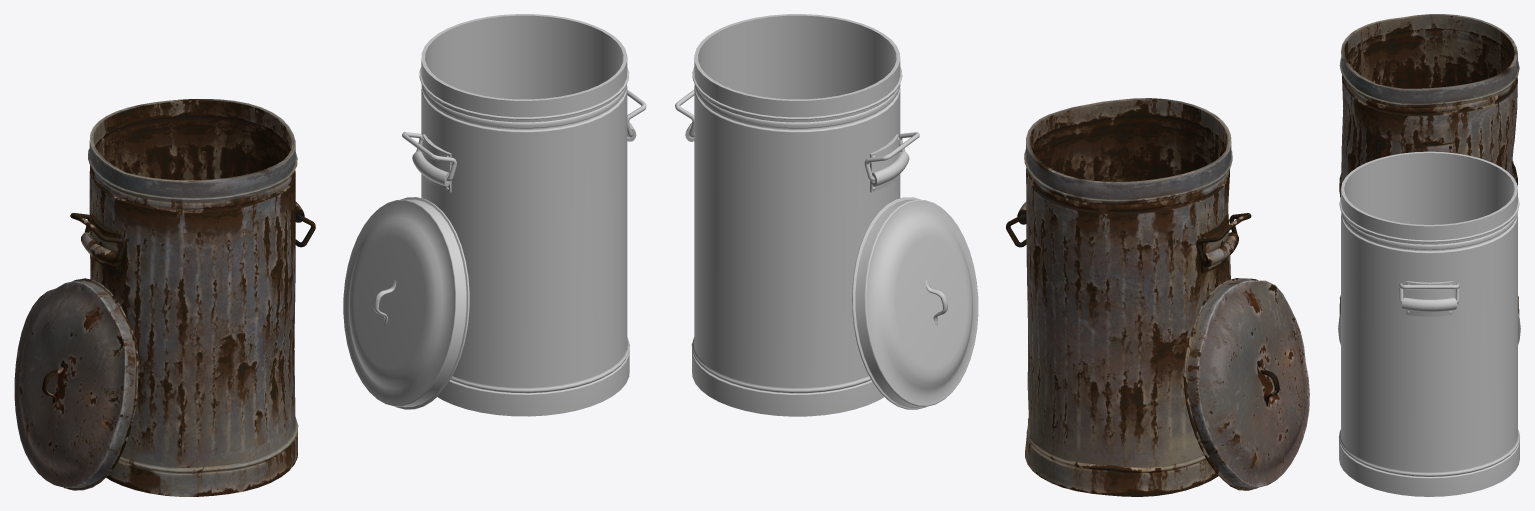
Rendered from metal_trash_can_1k.fbx.
3 views of the same model, side by side, from view 1: azimuth 30°, elevation 25°; view 2: azimuth 150°, elevation 25°; view 3: azimuth 270°, elevation 25° (orthographic). The views are drawn at different scales.
Parts seen in each view (by area): view 1: metal_trash_can, metal_trash_can_rust, metal_trash_can_lid, metal_trash_can_rust_lid; view 2: metal_trash_can, metal_trash_can_rust, metal_trash_can_lid, metal_trash_can_rust_lid; view 3: metal_trash_can, metal_trash_can_rust, metal_trash_can_handle_right.
Part boxes in pixels (x1=…): metal_trash_can: x1=412, y1=14, x2=636, y2=416; metal_trash_can_rust: x1=81, y1=99, x2=304, y2=496; metal_trash_can_lid: x1=343, y1=197, x2=469, y2=409; metal_trash_can_rust_lid: x1=14, y1=278, x2=138, y2=490; metal_trash_can: x1=685, y1=14, x2=909, y2=416; metal_trash_can_rust: x1=1017, y1=98, x2=1238, y2=496; metal_trash_can_lid: x1=852, y1=197, x2=978, y2=409; metal_trash_can_rust_lid: x1=1183, y1=278, x2=1309, y2=490; metal_trash_can: x1=1338, y1=151, x2=1519, y2=496; metal_trash_can_rust: x1=1339, y1=14, x2=1519, y2=316; metal_trash_can_handle_right: x1=1399, y1=283, x2=1459, y2=303.
Size of the model in its own units: 178 by 90.62 by 55.63.
